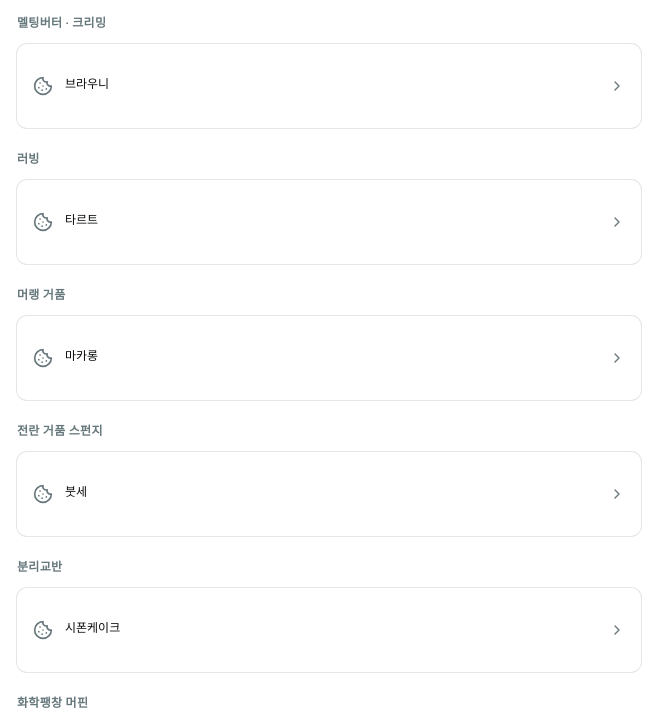
BreadDoctor › Scenario 0-A': 마카롱 선택 → 머랭 거품 증상이 표시되고 식빵 전용 증상은 안 보인다
The image size is (659, 718).
(page scrolled)
Click the button "마카롱" at (82, 357), box left=17, top=332, right=641, bottom=384
(page scrolled)
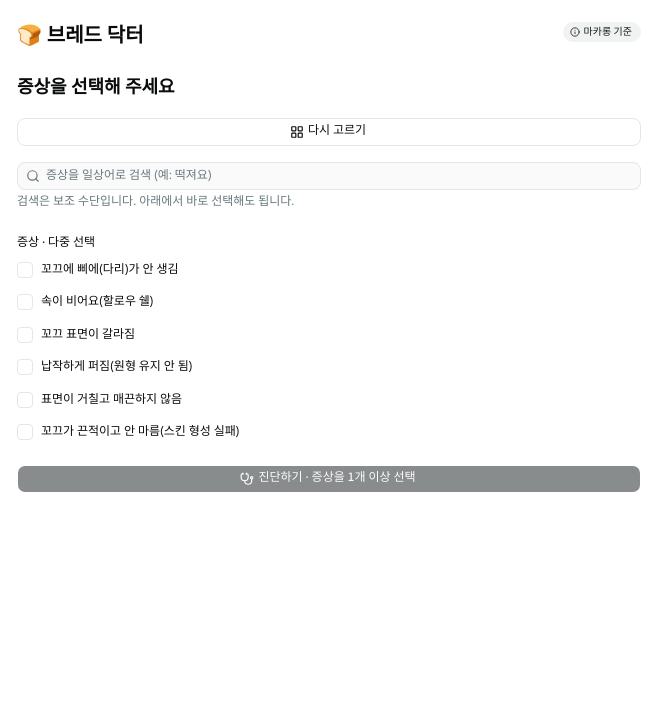
Expected: the text "마카롱 기준" is shown, left=563, top=22, right=641, bottom=42
Expected: the checkbox named "꼬끄에 삐에(다리)가 안 생김" next to "꼬끄에 삐에(다리)가 안 생김" is shown, left=17, top=262, right=33, bottom=278
